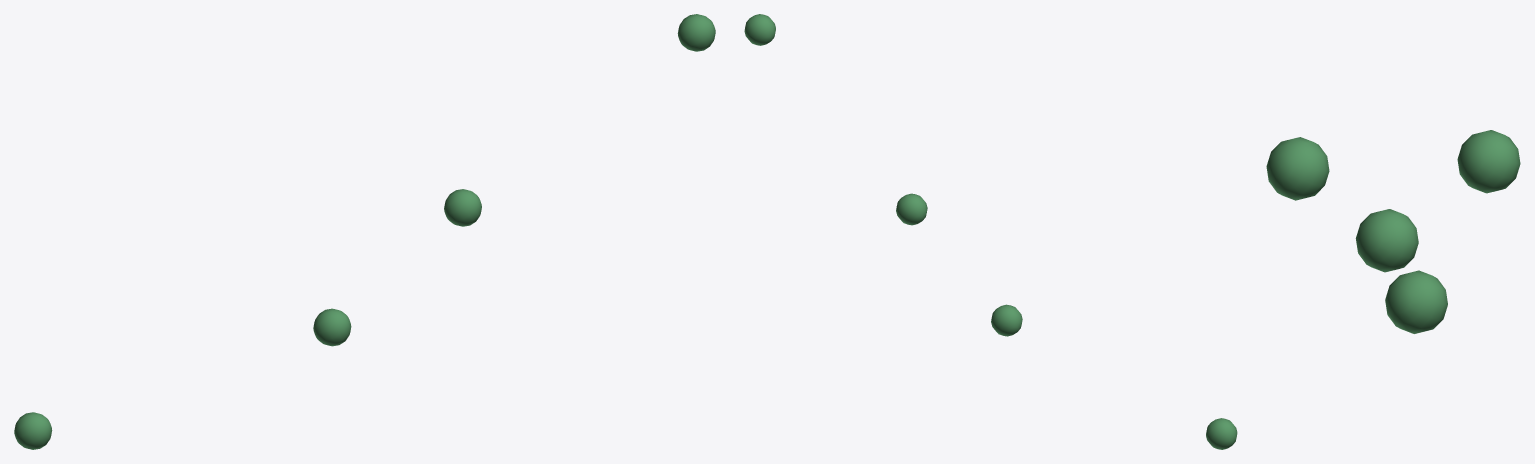
3 views of the same model, side by side, from view 1: azimuth 30°, elevation 25°; view 2: azimuth 150°, elevation 25°; view 3: azimuth 270°, elevation 25° (orthographic). The views are drawn at different scales.
Parts seen in each view (by area): view 1: 胰上淋巴结; view 2: 胰上淋巴结; view 3: 胰上淋巴结.
Part boxes in pixels (bbox=[...]): 胰上淋巴结: bbox=[14, 14, 715, 449]; 胰上淋巴结: bbox=[744, 14, 1237, 449]; 胰上淋巴结: bbox=[1266, 130, 1520, 333].
Bounding box in the file's own units: 0.0742 × 0.0362 × 0.0152.
